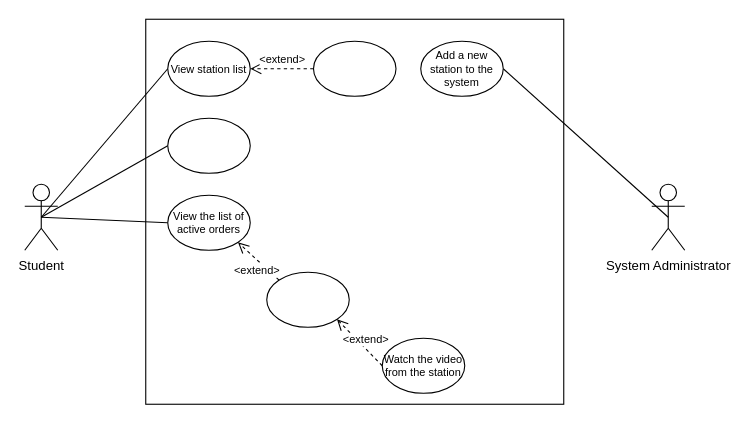
This 749x424 diagram has some shape labels left out. The shapes that lost their labels are listed below. From the top down, each one's centre as x and y in pixels, then its label:
At (354,68): "Book a station".
At (208,145): "View activities list".
At (307,299): "View order information".
